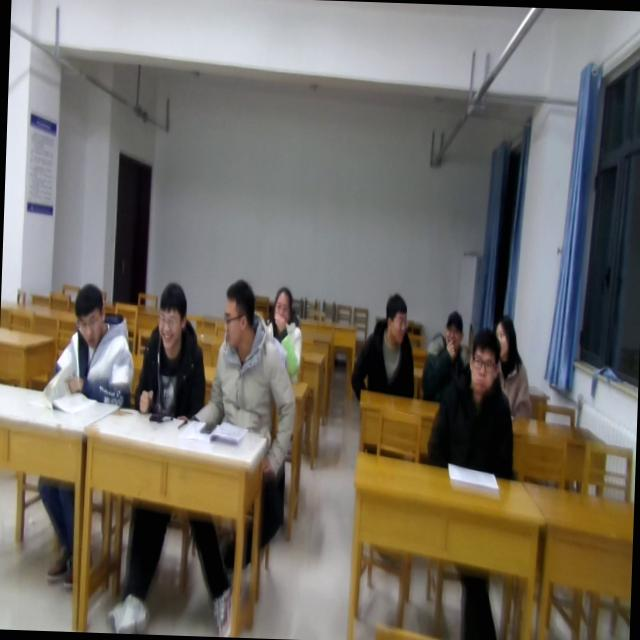down: (70, 280, 108, 352)
lookup: (464, 322, 502, 400), (154, 280, 188, 356), (268, 277, 294, 335), (491, 312, 520, 364), (442, 302, 465, 354)
sit: (192, 276, 302, 434), (420, 327, 520, 478), (48, 281, 136, 407), (130, 282, 208, 421), (348, 290, 419, 398), (418, 306, 469, 404), (262, 284, 306, 388), (488, 316, 534, 414)
